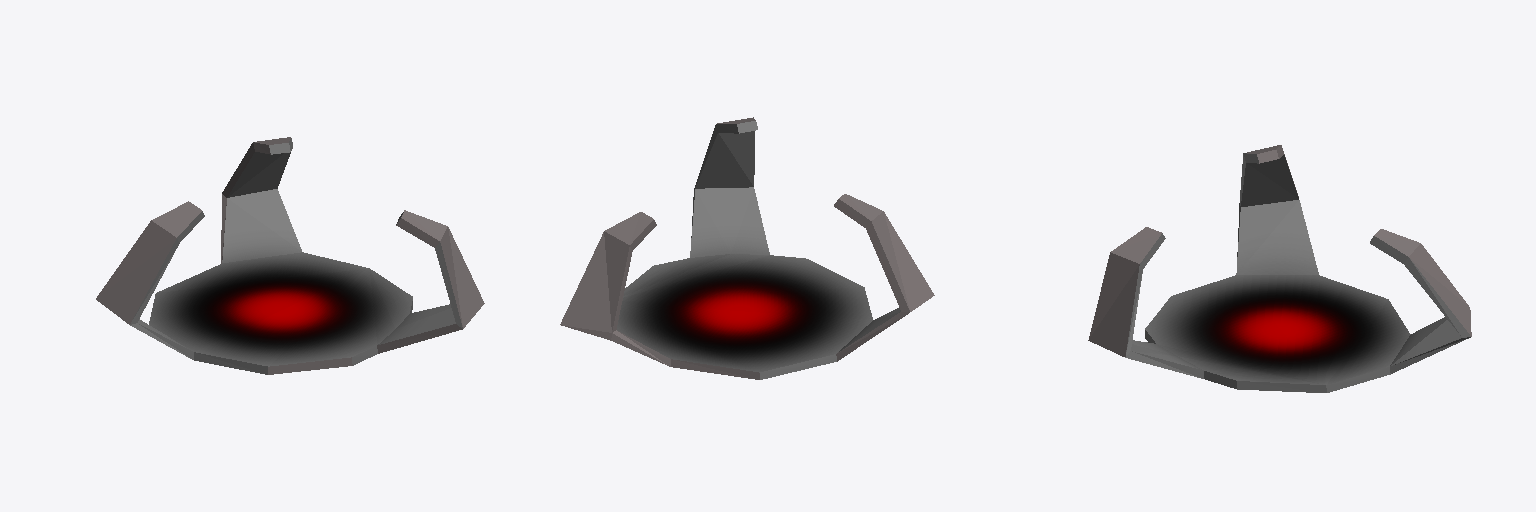
The picture shows the model from 3 angles: view 1: azimuth 30°, elevation 25°; view 2: azimuth 150°, elevation 25°; view 3: azimuth 270°, elevation 25°; orthographic projection.
Parts seen in each view (by area): view 1: Icosphere; view 2: Icosphere; view 3: Icosphere.
Boxes of the visible parts, <box> form: Icosphere: <box>96,137,484,374</box>; Icosphere: <box>560,117,934,379</box>; Icosphere: <box>1088,145,1471,392</box>.
Bounding box in the file's own units: 1.55 × 0.711 × 1.69.
1 materials, 1 textured.